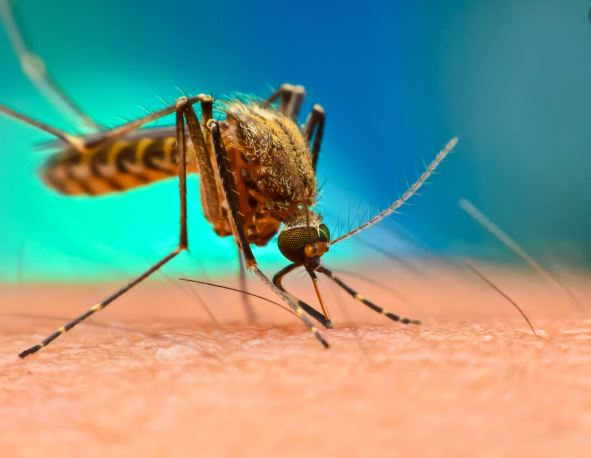dengue_mosquito: (1, 84, 458, 348)
